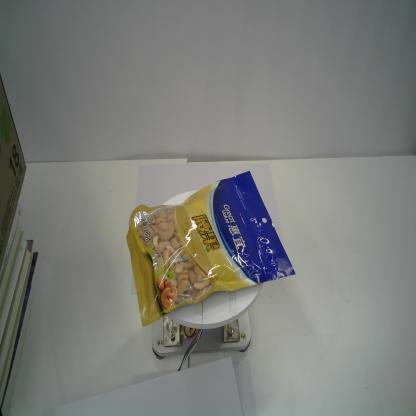Dried Fruit: (125, 170, 297, 326)
